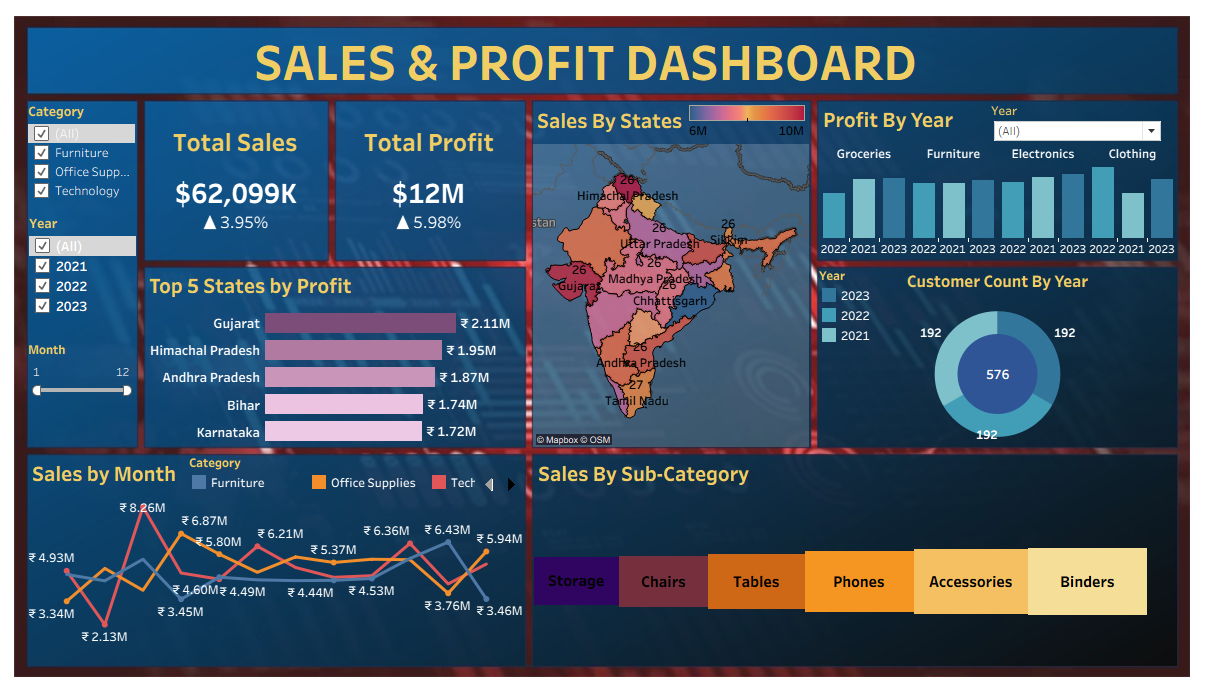

The dashboard page shown, as its layout file describes it:
{"tool":"tableau","page":{"name":"Dashboard 2","canvas":[1200,700],"ordinal":0},"visuals":[{"type":"image","param":"C:/Users/Shrushti Thakur/Downloads/Presentation1.jpg","box":[8,8,1184,684]},{"type":"text","box":[27,32,1113,63]},{"type":"worksheet","title":"KPI Profit","mark":"Automatic","box":[333,104,189,158]},{"type":"legend","title":"Sales By States","param":"[federated.06bj66z1d817n715q5o1t0a5iwtg].[sum:Revenue:qk]","box":[683,104,124,36]},{"type":"worksheet","title":"Profit By Year","mark":"Bar","rows":["Profit"],"cols":["Product","Date"],"box":[817,104,358,157]},{"type":"filter","title":"KPI Sales","param":"[federated.06bj66z1d817n715q5o1t0a5iwtg].[none:Category:nk]","box":[26,105,107,109]},{"type":"worksheet","title":"KPI Sales","mark":"Automatic","box":[143,105,182,156]},{"type":"worksheet","title":"Sales By States","mark":"Automatic","box":[531,105,276,345]},{"type":"filter","title":"Profit By Year","param":"[federated.06bj66z1d817n715q5o1t0a5iwtg].[yr:Date:ok]","box":[989,105,173,40]},{"type":"filter","title":"Top 5 States by Profit","param":"[federated.06bj66z1d817n715q5o1t0a5iwtg].[yr:Date:ok]","box":[27,217,107,105]},{"type":"worksheet","title":"Customer Count By Year","mark":"Pie","rows":["Calculation_879046369525084162","Calculation_879046369525084162"],"box":[816,269,359,179]},{"type":"worksheet","title":"Top 5 States by Profit","mark":"Automatic","rows":["State"],"cols":["Profit"],"box":[143,270,380,178]},{"type":"legend","title":"Customer Count By Year","param":"[federated.06bj66z1d817n715q5o1t0a5iwtg].[yr:Date:ok]","box":[817,270,82,88]},{"type":"filter","title":"KPI Profit","param":"[federated.06bj66z1d817n715q5o1t0a5iwtg].[mn:Date:qk]","box":[26,344,108,61]},{"type":"legend","title":"Sales by Month","param":"[federated.06bj66z1d817n715q5o1t0a5iwtg].[none:Category:nk]","box":[187,457,336,43]},{"type":"worksheet","title":"Sales by Month","mark":"Line","rows":["Revenue"],"cols":["Date"],"box":[26,458,496,210]},{"type":"worksheet","title":"Sales By Sub-Category","mark":"Bar","cols":["Calculation_879046369549713411"],"box":[532,458,644,210]}]}

Visuals, with their boxes in screenshot pixels (x1, y1, x2, y2), scaled from the page's 1200x700 canvas onto the 1205x694 screenshot:
image: (x1=8, y1=8, x2=1197, y2=686)
text: (x1=27, y1=32, x2=1145, y2=94)
"KPI Profit" worksheet: (x1=334, y1=103, x2=524, y2=260)
"Sales By States" legend: (x1=686, y1=103, x2=810, y2=139)
"Profit By Year" worksheet (Bar marks): (x1=820, y1=103, x2=1180, y2=259)
"KPI Sales" filter: (x1=26, y1=104, x2=134, y2=212)
"KPI Sales" worksheet: (x1=144, y1=104, x2=326, y2=259)
"Sales By States" worksheet: (x1=533, y1=104, x2=810, y2=446)
"Profit By Year" filter: (x1=993, y1=104, x2=1167, y2=144)
"Top 5 States by Profit" filter: (x1=27, y1=215, x2=135, y2=319)
"Customer Count By Year" worksheet (Pie marks): (x1=819, y1=267, x2=1180, y2=444)
"Top 5 States by Profit" worksheet: (x1=144, y1=268, x2=525, y2=444)
"Customer Count By Year" legend: (x1=820, y1=268, x2=903, y2=355)
"KPI Profit" filter: (x1=26, y1=341, x2=135, y2=402)
"Sales by Month" legend: (x1=188, y1=453, x2=525, y2=496)
"Sales by Month" worksheet (Line marks): (x1=26, y1=454, x2=524, y2=662)
"Sales By Sub-Category" worksheet (Bar marks): (x1=534, y1=454, x2=1181, y2=662)
